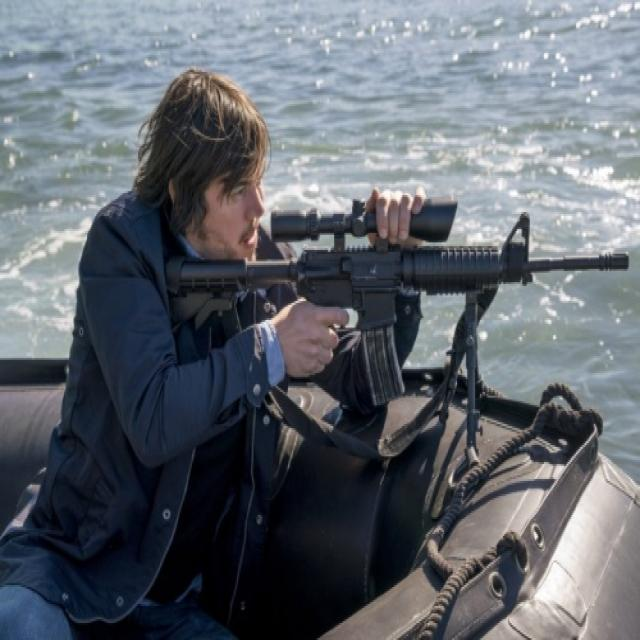rifle: (162, 188, 634, 408)
